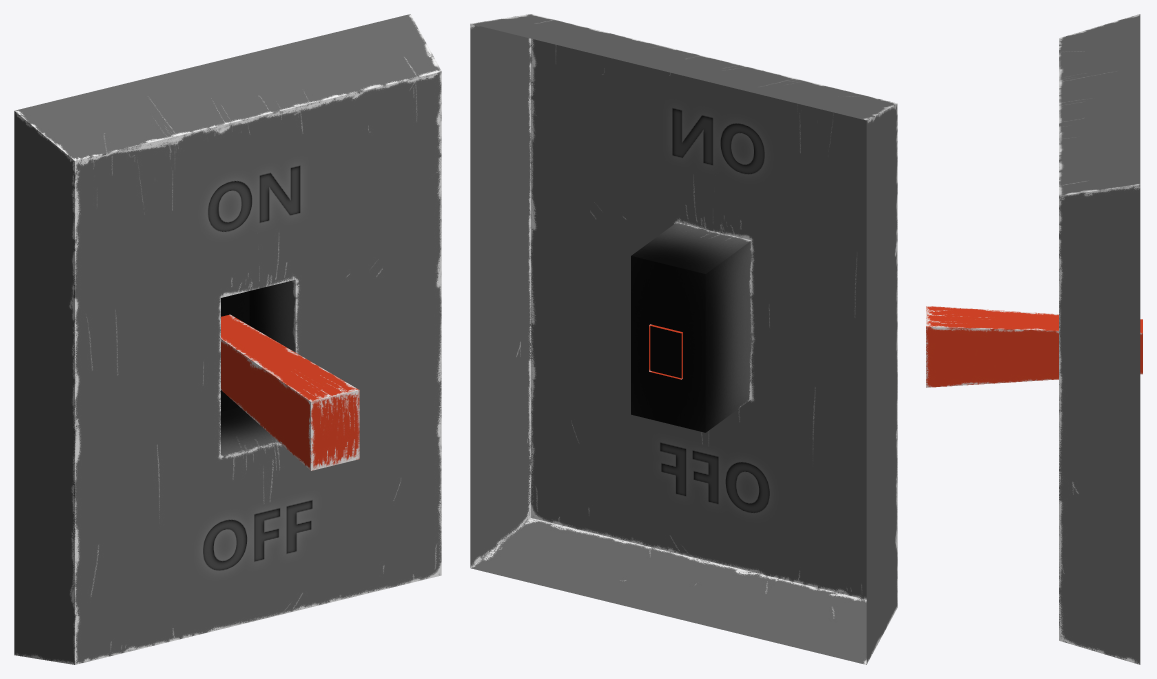
Rendered from Switcher.FBX.
The picture shows the model from 3 angles, left to right: view 1: azimuth 30°, elevation 25°; view 2: azimuth 150°, elevation 25°; view 3: azimuth 270°, elevation 25°; orthographic projection. The views are drawn at different scales.
Visible parts, largest first — view 1: Switcher, Switcher_part; view 2: Switcher; view 3: Switcher, Switcher_part.
Boxes of the visible parts, x1,y1,x2,y2 form: Switcher: [14, 14, 441, 664]; Switcher_part: [221, 314, 359, 470]; Switcher: [470, 14, 897, 664]; Switcher: [1059, 14, 1140, 664]; Switcher_part: [926, 306, 1142, 387].
Size of the model in its own units: 5.94 by 7.79 by 3.19.
1 material, 1 textured.
